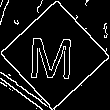M_N: (31, 29, 79, 81)
